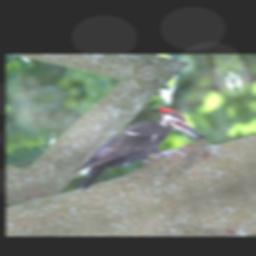Woodpecker: (56, 98, 210, 193)
